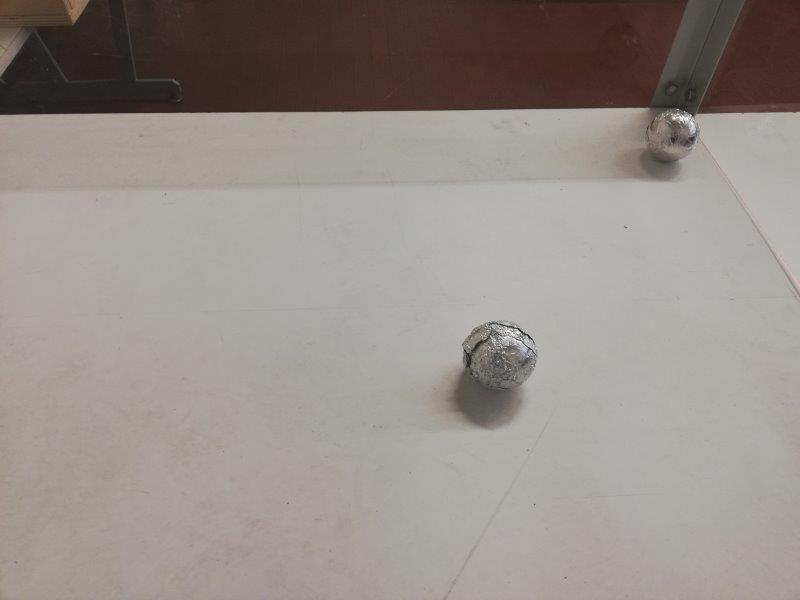bianca: (461, 319, 537, 391), (645, 108, 699, 164)
